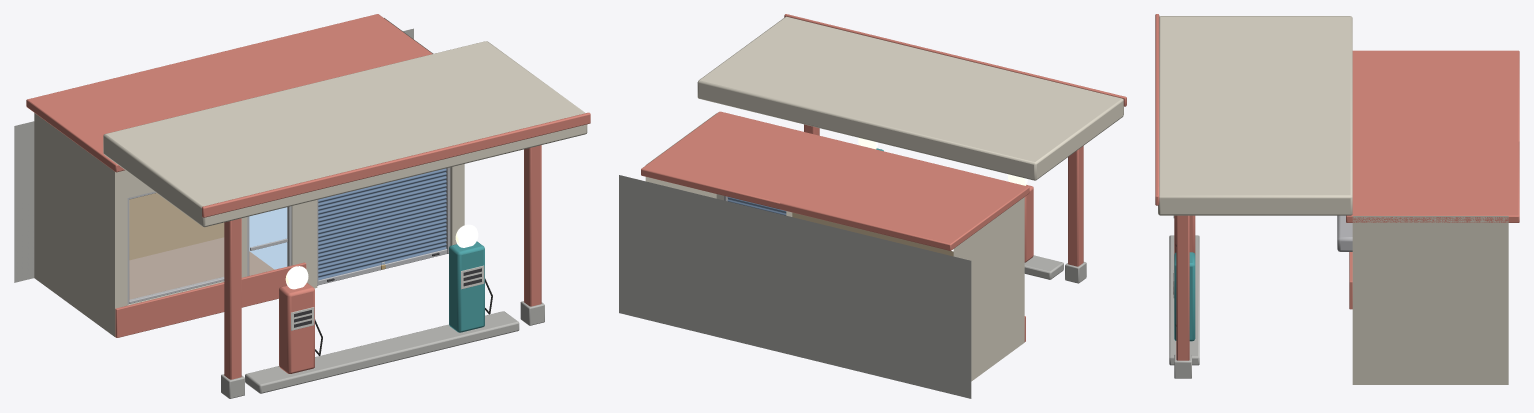
File: gas_station_8a.glb
3 views of the same model, side by side, from view 1: azimuth 30°, elevation 25°; view 2: azimuth 150°, elevation 25°; view 3: azimuth 270°, elevation 25° (orthographic). The views are drawn at different scales.
Parts seen in each view (by area): view 1: gas_station_8a; view 2: gas_station_8a; view 3: gas_station_8a.
Boxes of the visible parts, bbox=[...] form: gas_station_8a: bbox=[14, 14, 590, 398]; gas_station_8a: bbox=[619, 14, 1126, 398]; gas_station_8a: bbox=[1155, 14, 1519, 384].
Size of the model in its own units: 8 by 3.97 by 6.55.
